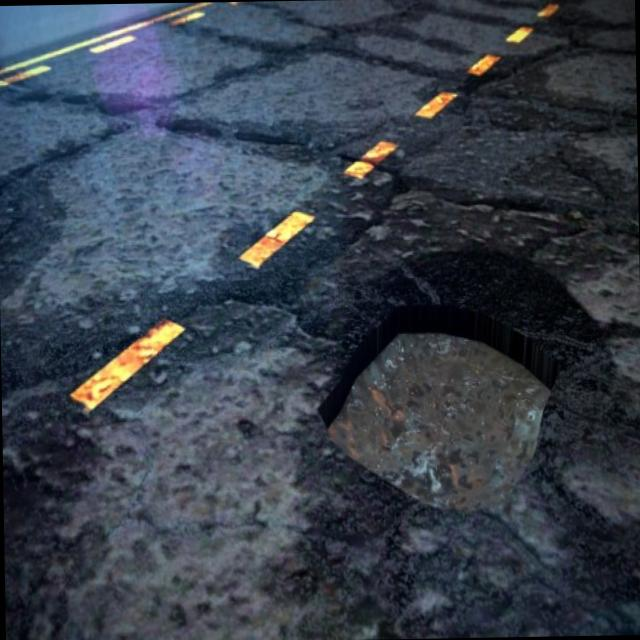Potholes: (306, 304, 564, 542)
